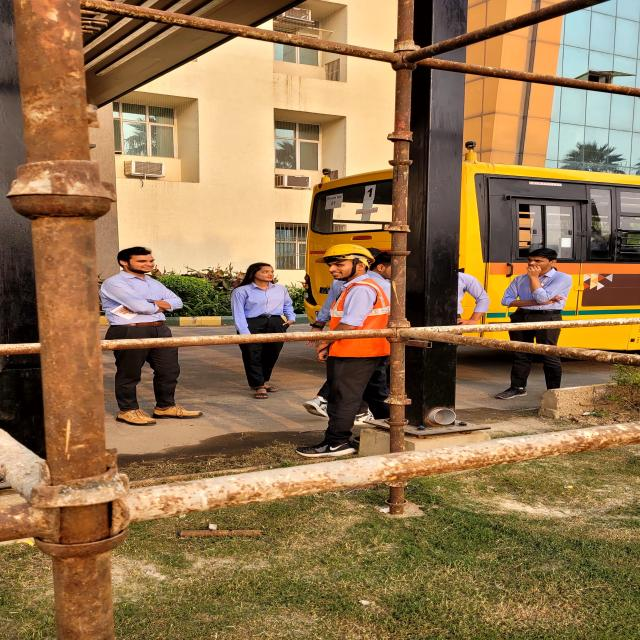safe: (300, 243, 392, 459)
unsafe: (99, 246, 202, 426), (496, 248, 570, 402), (230, 262, 294, 401)
